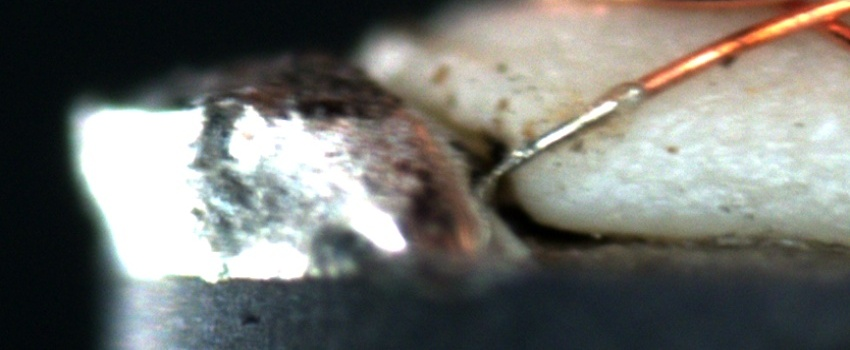CL: (747, 2, 850, 43)
DL: (685, 133, 850, 185)
TS: (485, 81, 642, 192)
TTCW: (481, 56, 677, 180)
